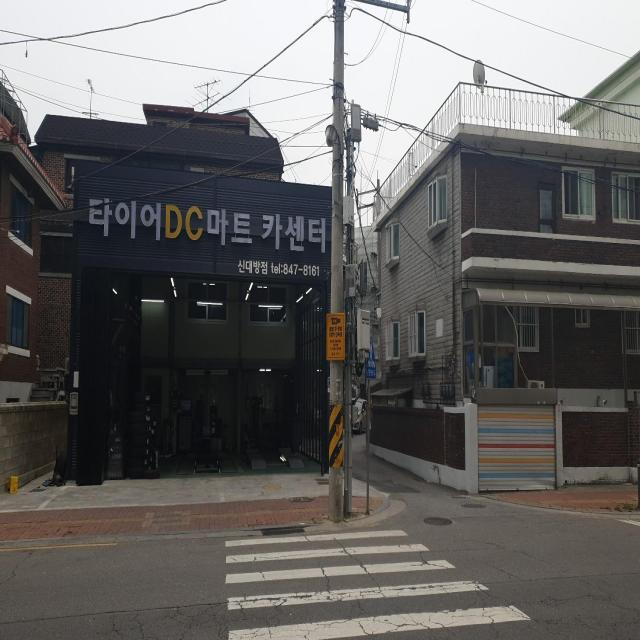횡단보도: (224, 527, 532, 639)
